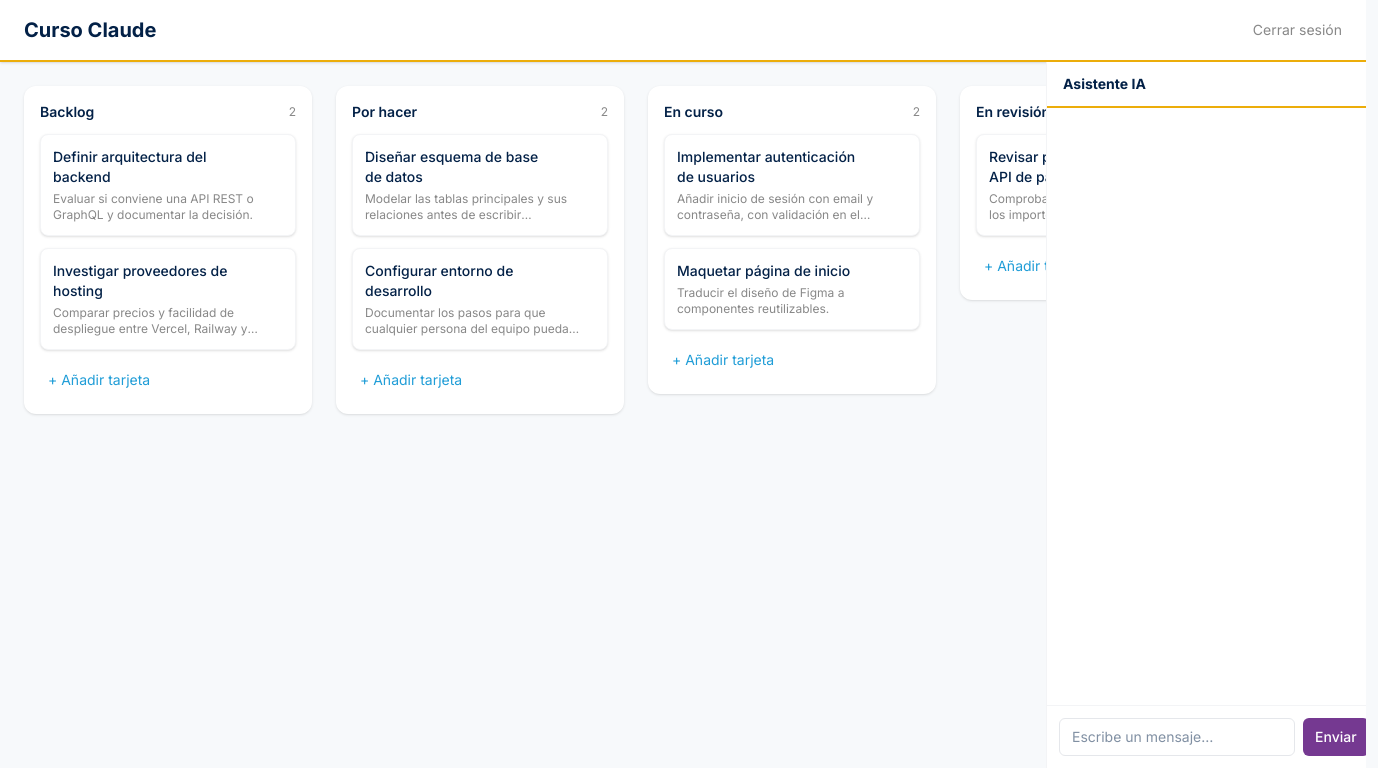
BoardApp › adds a new card via the API
Expected: the button "Backlog" is shown, [40, 102, 94, 122]
Click the 2nd button "+ Añadir tarjeta": (168, 380) [40, 362, 296, 398]
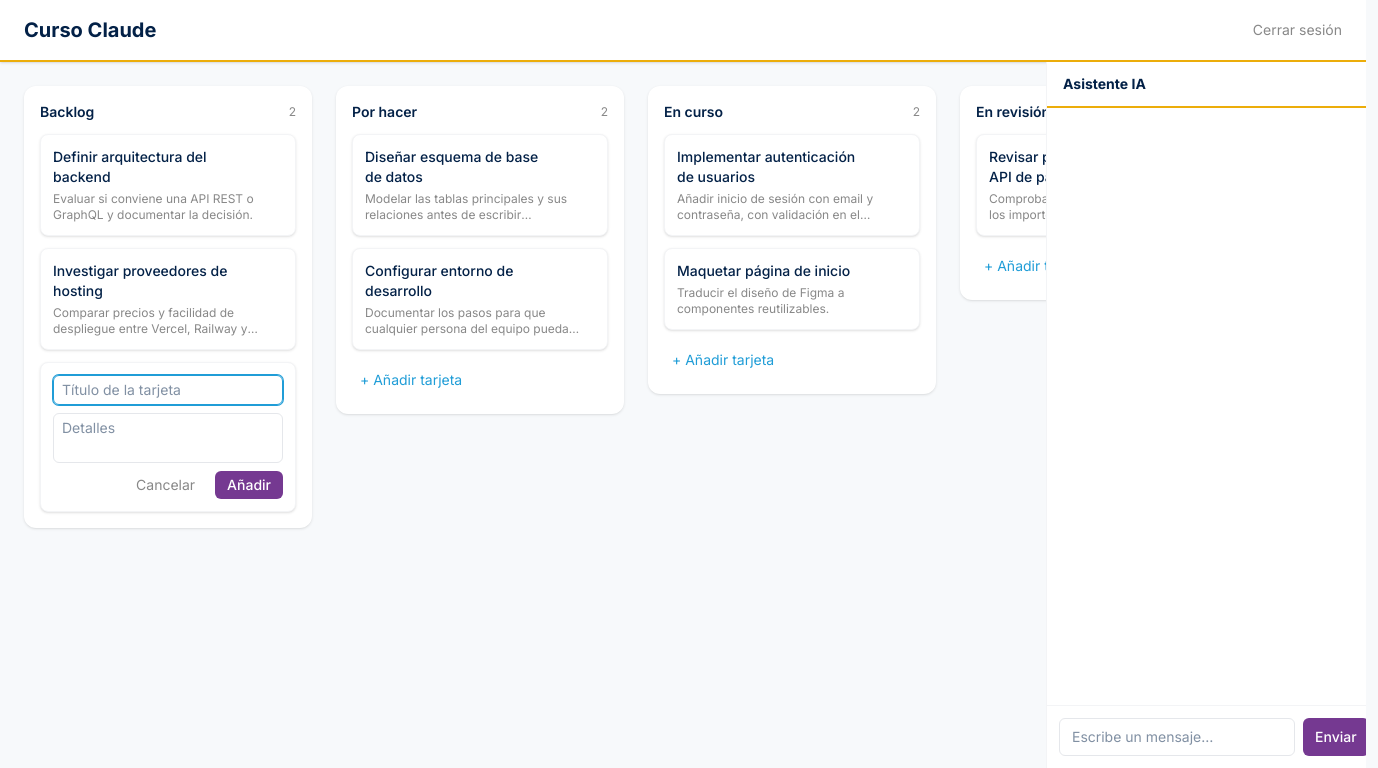
In the field with placeholder "Título de la tarjeta": (168, 390) [53, 375, 283, 405], type "Tarjeta de prueba"
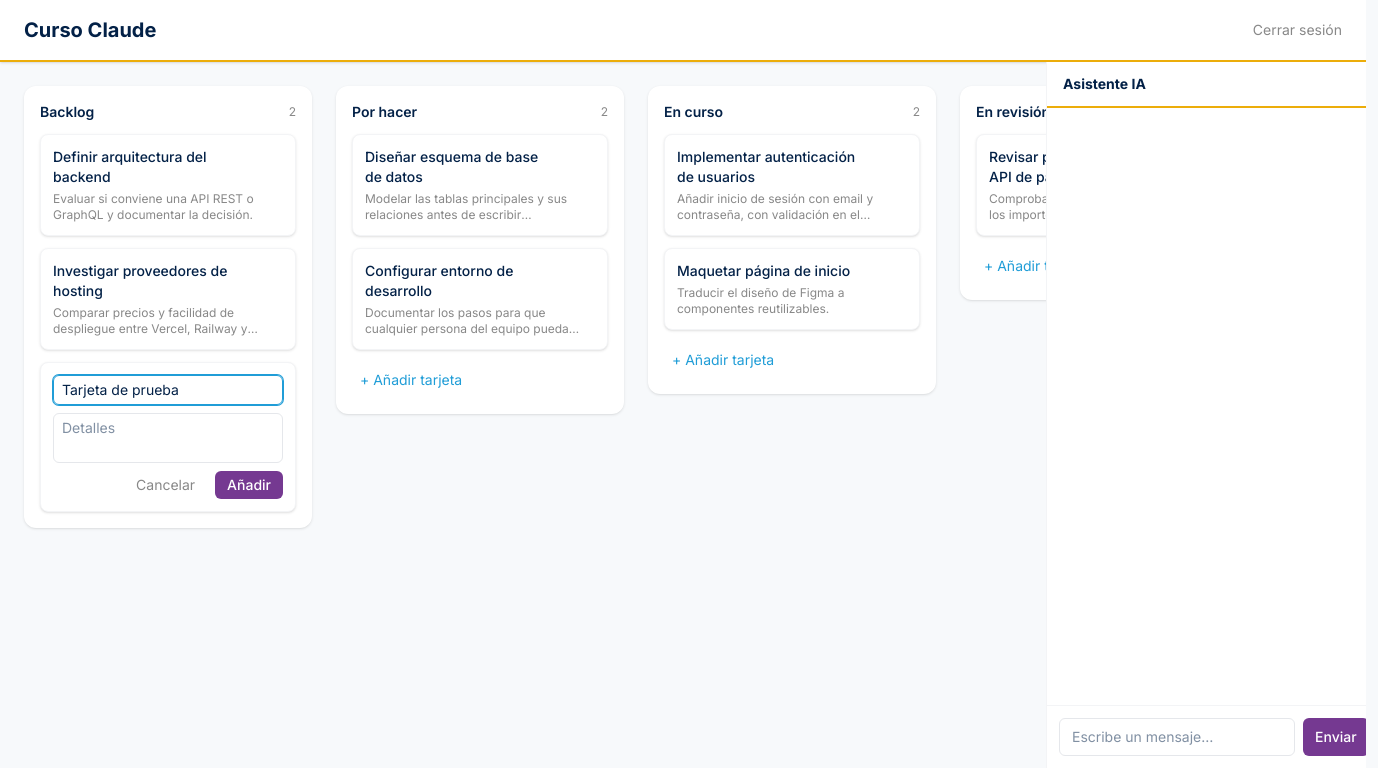
In the text box with placeholder "Detalles": (168, 438) [53, 413, 283, 463], type "Detalles de prueba"
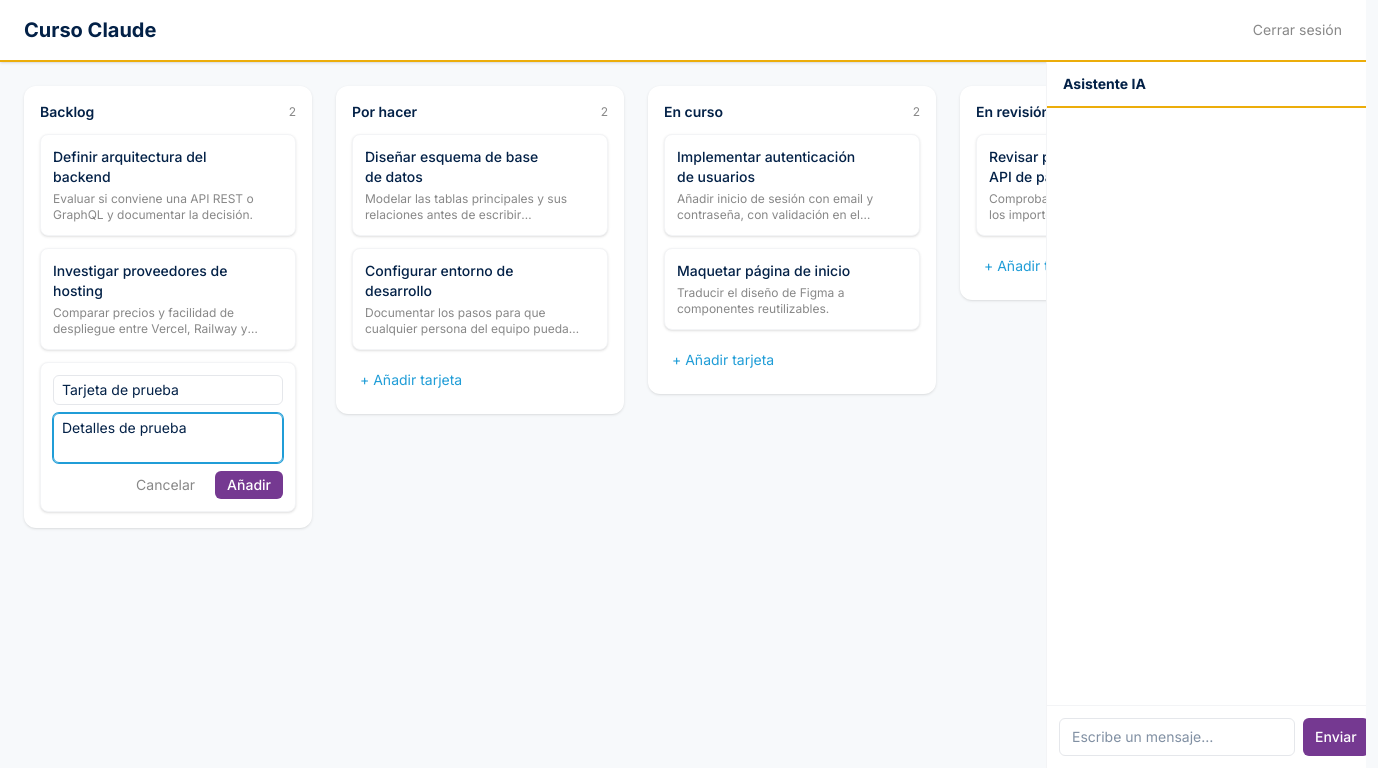
Click the button "Añadir": (249, 485) [215, 471, 283, 499]
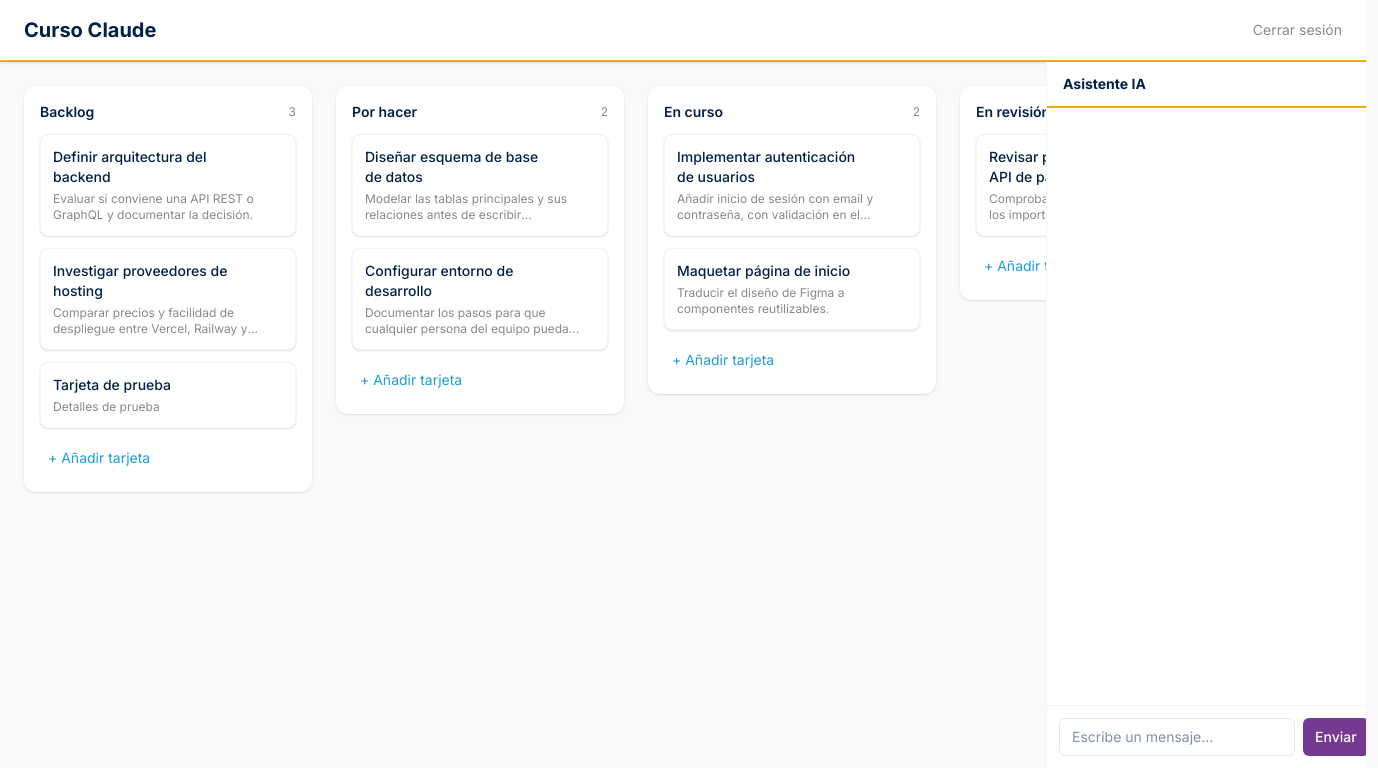
Expected: the text "Tarjeta de prueba" is shown, [53, 376, 171, 393]
